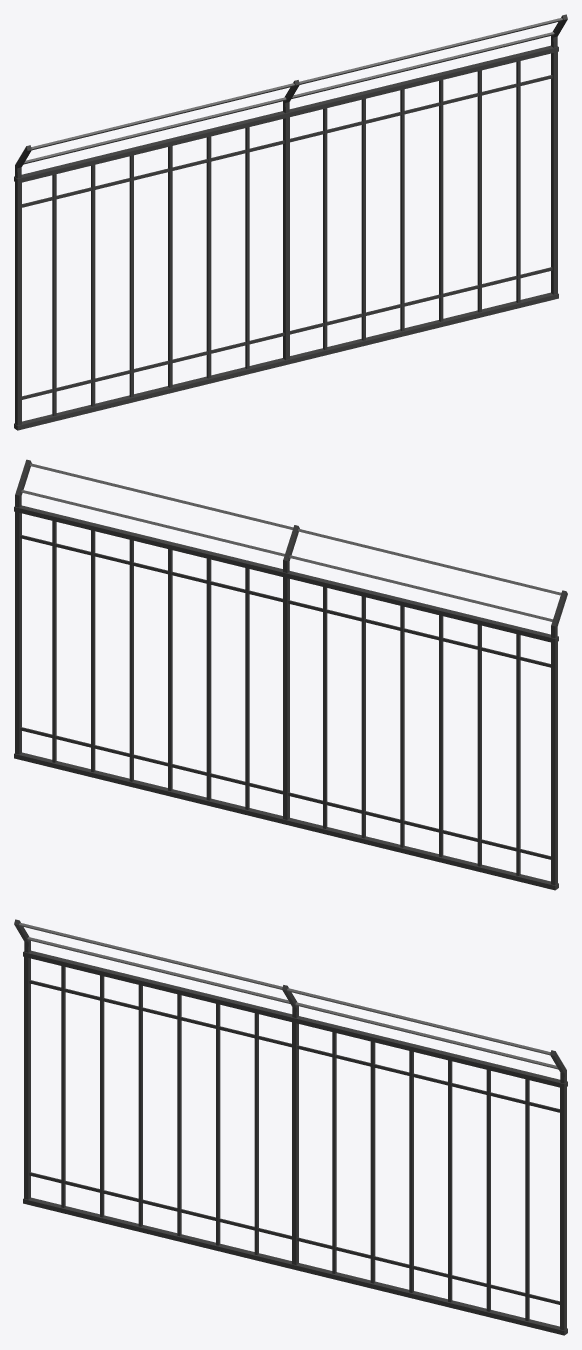
Rendered from SM_IndustrialProps_Fence_01.fbx.
3 renders of one model, top to bottom at view 1: azimuth 30°, elevation 25°; view 2: azimuth 150°, elevation 25°; view 3: azimuth 330°, elevation 25°, orthographic.
Visible parts, largest first — view 1: SM_IndustrialProps_Fence_01; view 2: SM_IndustrialProps_Fence_01; view 3: SM_IndustrialProps_Fence_01.
Boxes of the visible parts, x1,y1,x2,y2 form: SM_IndustrialProps_Fence_01: (14, 14, 567, 430); SM_IndustrialProps_Fence_01: (14, 459, 567, 890); SM_IndustrialProps_Fence_01: (14, 919, 567, 1335).
Bounding box in the file's own units: 5 × 2.56 × 0.2107.
